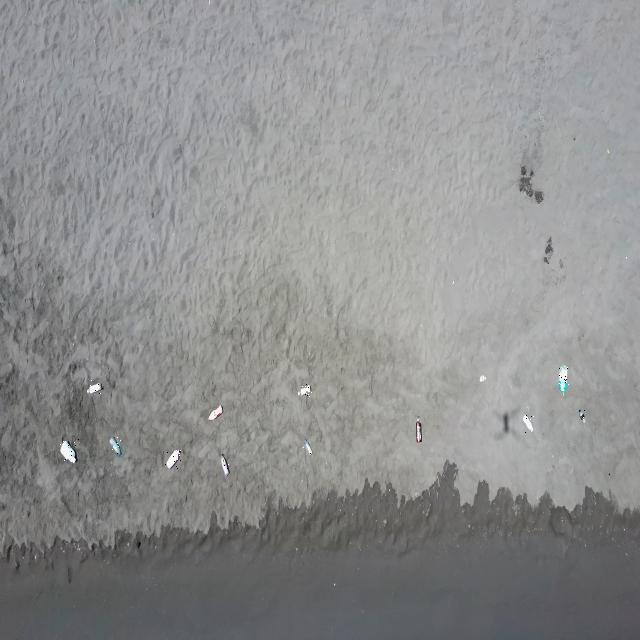plastic-bottle: (60, 438, 79, 464), (165, 449, 181, 472), (559, 365, 569, 397), (414, 413, 424, 444), (208, 405, 224, 423), (522, 414, 535, 434), (88, 380, 104, 396), (110, 437, 122, 458), (297, 384, 312, 398), (303, 440, 314, 458), (221, 454, 229, 477), (578, 408, 587, 426), (479, 372, 487, 384)
